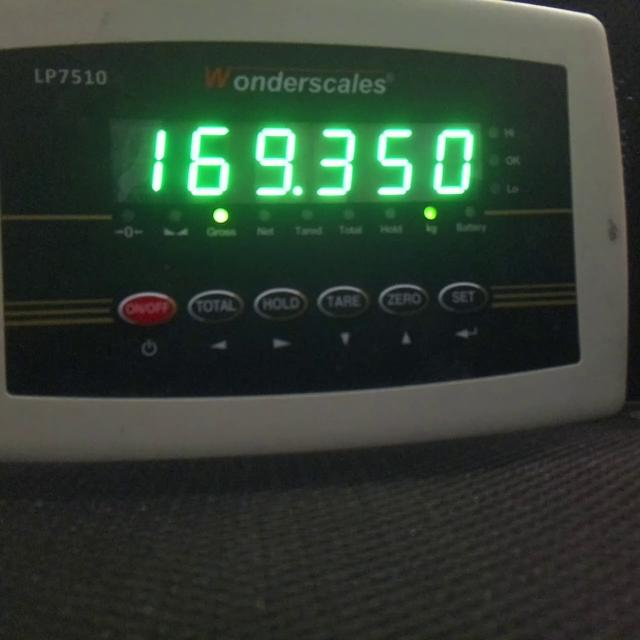.: (292, 186, 302, 196)
0: (433, 128, 473, 195)
1: (150, 129, 166, 192)
3: (316, 128, 356, 196)
5: (374, 127, 414, 196)
6: (187, 125, 231, 196)
9: (249, 124, 299, 199)
